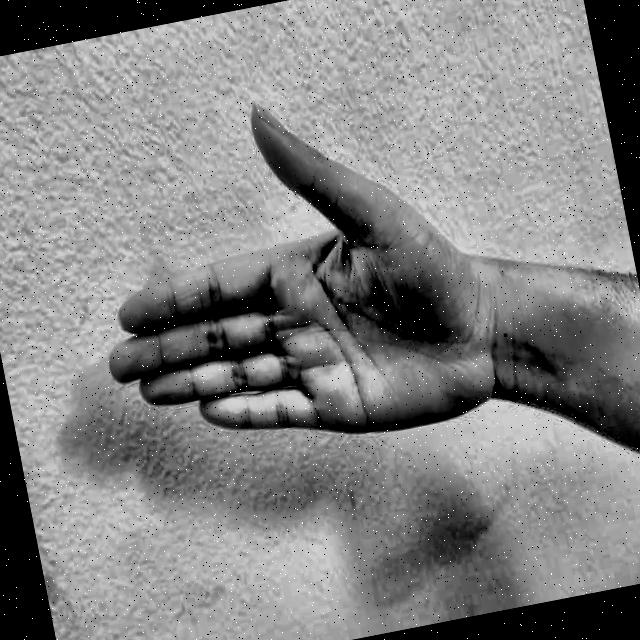Aa: (33, 40, 511, 511)
